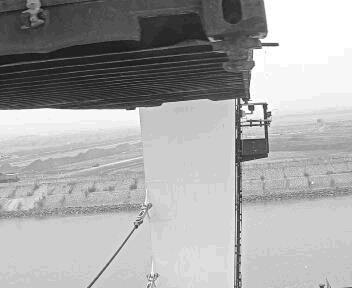twist_lock_1: (289, 176, 352, 232)
